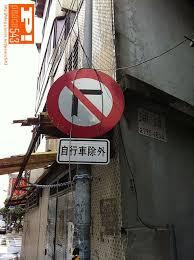no_right_turn: (46, 67, 123, 136)
